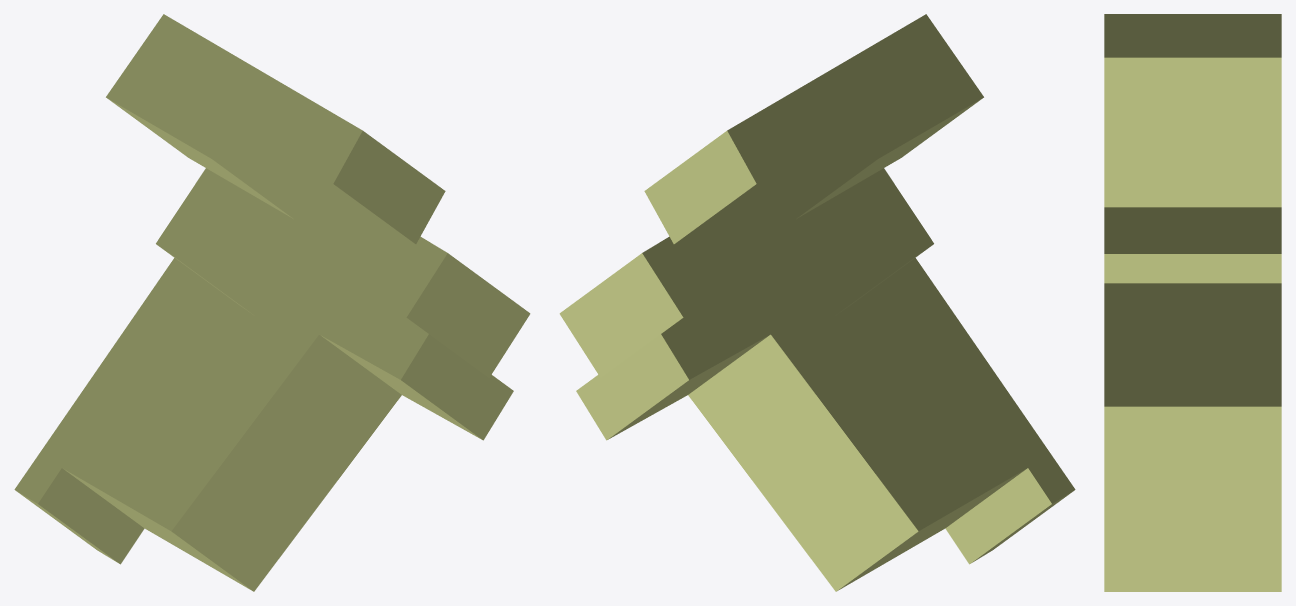
3 views of the same model, side by side, from view 1: azimuth 30°, elevation 25°; view 2: azimuth 150°, elevation 25°; view 3: azimuth 270°, elevation 25° (orthographic). The views are drawn at different scales.
Parts seen in each view (by area): view 1: 0_1_1_3_3_1_0_3_1; view 2: 0_1_1_3_3_1_0_3_1; view 3: 0_1_1_3_3_1_0_3_1.
Part boxes in pixels (left/top/right/bottom): 0_1_1_3_3_1_0_3_1: left=14, top=14, right=530, bottom=591; 0_1_1_3_3_1_0_3_1: left=559, top=14, right=1075, bottom=591; 0_1_1_3_3_1_0_3_1: left=1104, top=14, right=1281, bottom=591.
Size of the model in its own units: 18.14 by 20.77 by 6.
